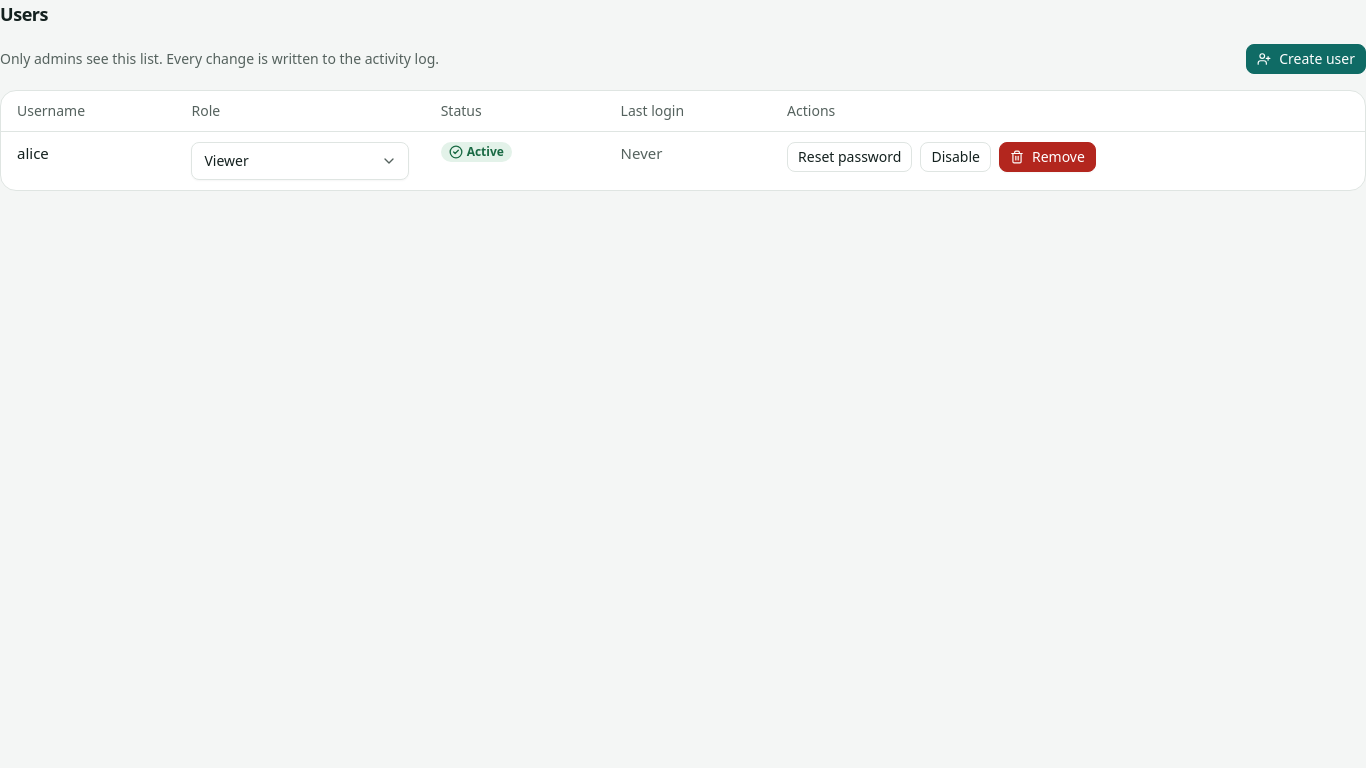
Test: UsersAdmin actions › shows the server's reason when a remove is refused and keeps the dialog open
Expected: the table named "Users" is shown, [1, 91, 1365, 190]
Click the button with aria-label "Remove alice" at (1047, 157), box [999, 142, 1096, 172]
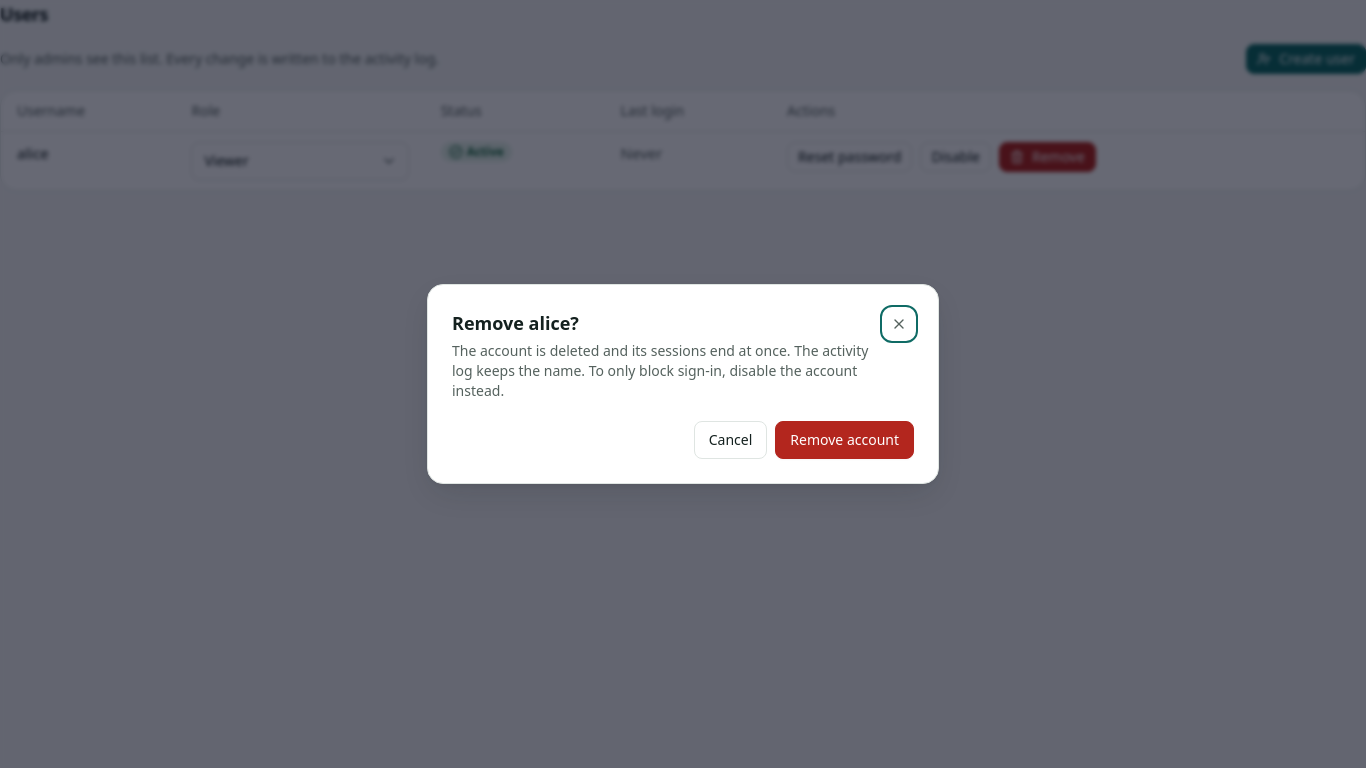
Click the button "Remove account" at (845, 440), box [775, 421, 914, 459]
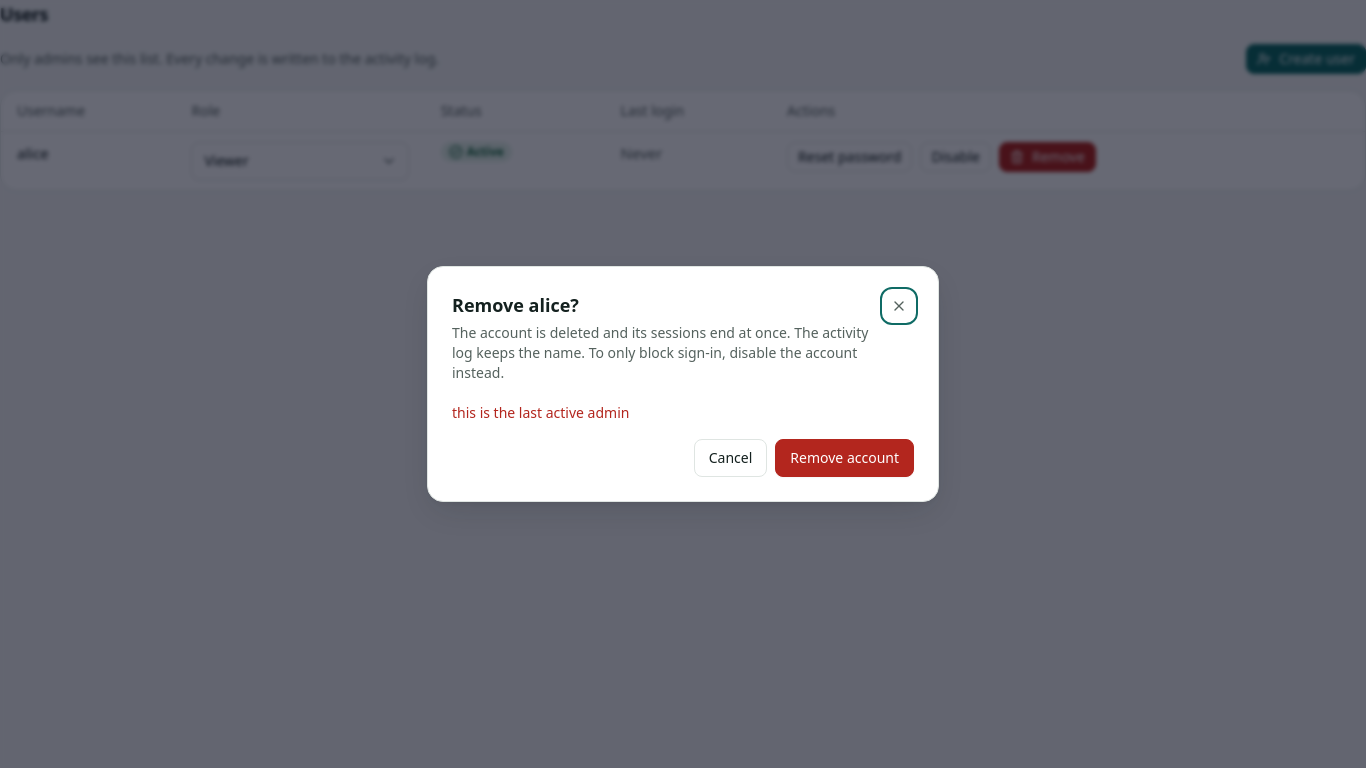
Result: the message reads "this is the last active admin" at [452, 403, 629, 422]
